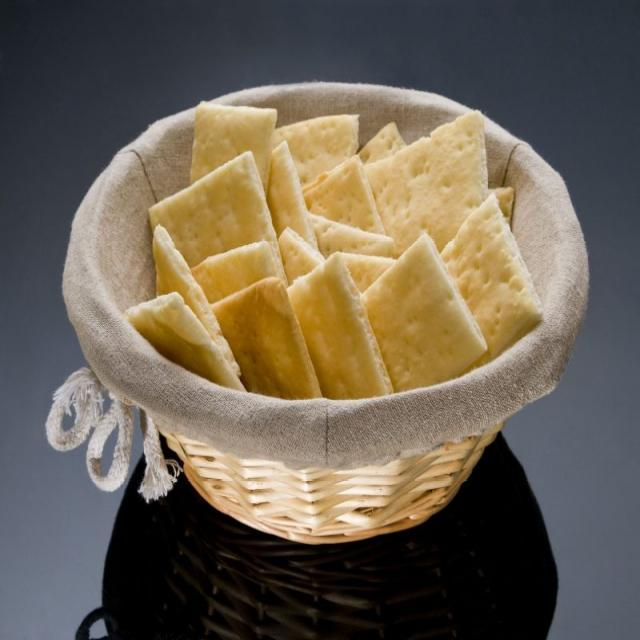Cracker: (140, 120, 490, 351)
